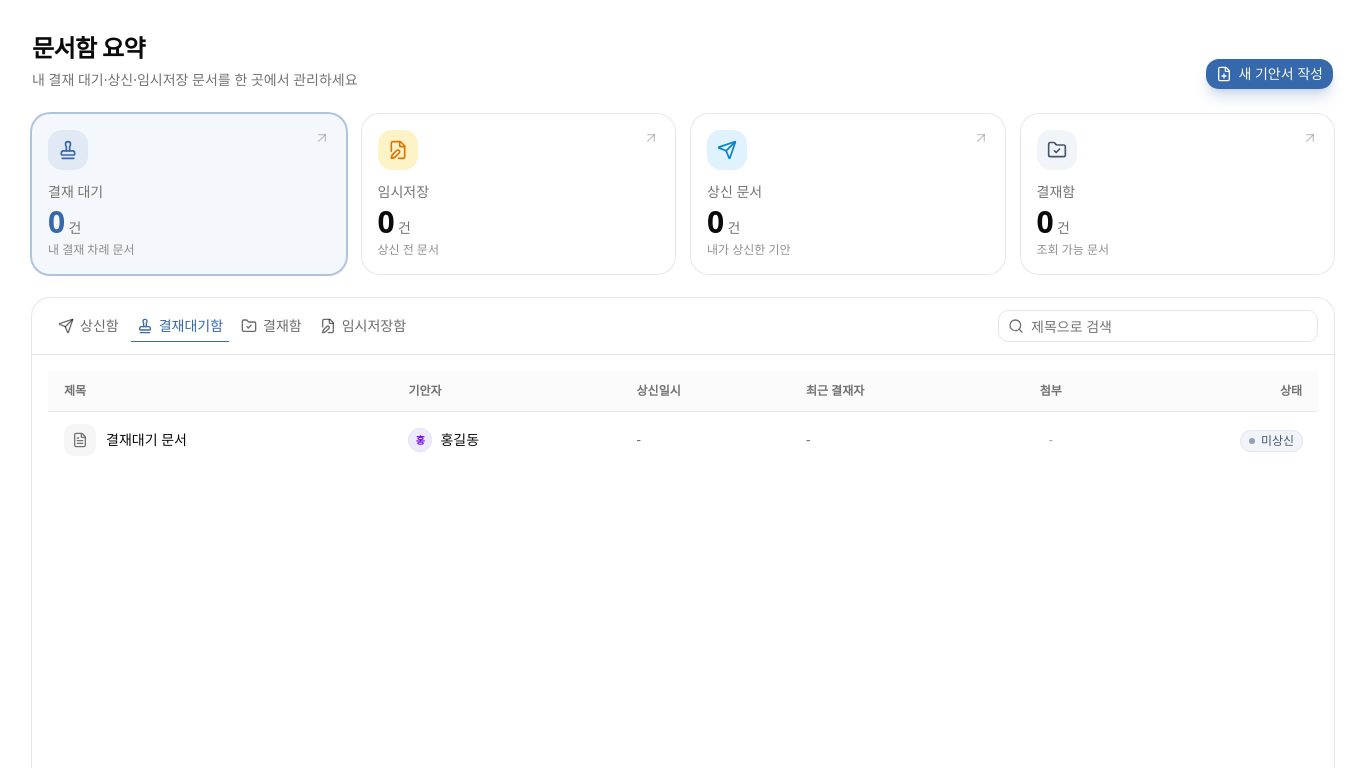
Test: DocumentBoxHomePage (F715) - 탭/카드/헤더 네비게이션 › 요약 카드 클릭 시 해당 탭으로 전환된다
Check: the text "결재대기 문서" is shown, box [106,430,187,450]
Click the button "상신 문서 0 건 내가 상신한 기안" at (848, 194), box [691,114,1004,274]
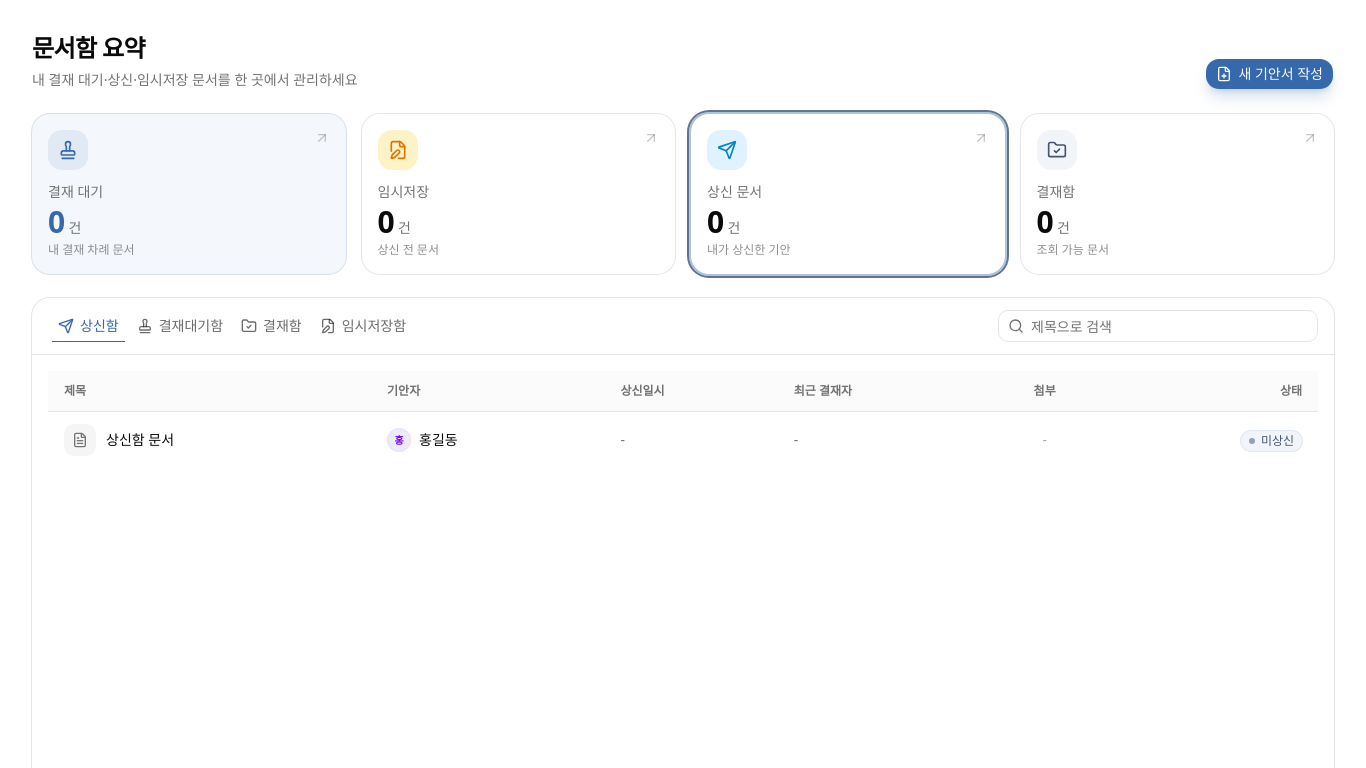
Check: the text "상신함 문서" is shown, box [106,430,174,450]
Check: the button "결재대기 문서" is gone
